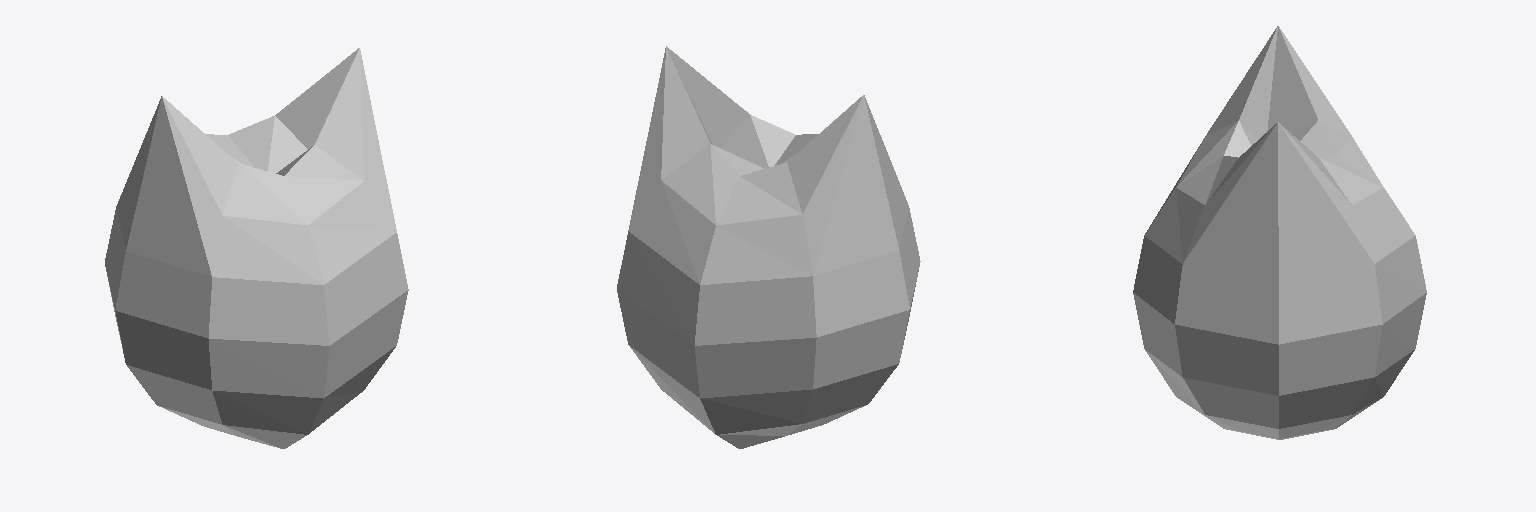
File: catHead.obj
3 renders of one model, left to right at view 1: azimuth 30°, elevation 25°; view 2: azimuth 150°, elevation 25°; view 3: azimuth 270°, elevation 25°, orthographic.
Visible parts, largest first — view 1: Sphere; view 2: Sphere; view 3: Sphere.
Part boxes in pixels (left/top/right/bottom): Sphere: left=105, top=48, right=408, bottom=448; Sphere: left=617, top=46, right=920, bottom=448; Sphere: left=1133, top=26, right=1426, bottom=439.
Size of the model in its own units: 1 by 1.24 by 0.9.